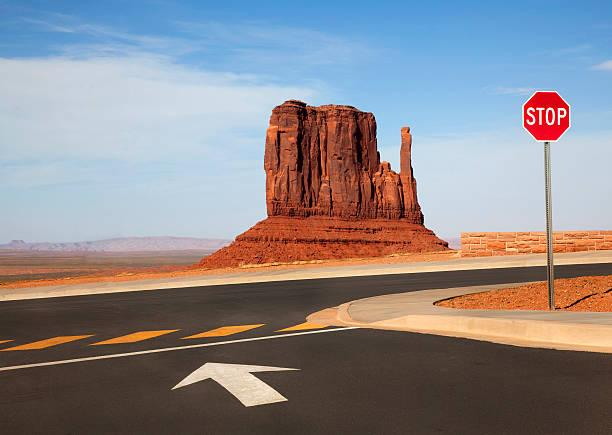Pole: (541, 141, 557, 311)
Sign: (521, 90, 572, 141)
